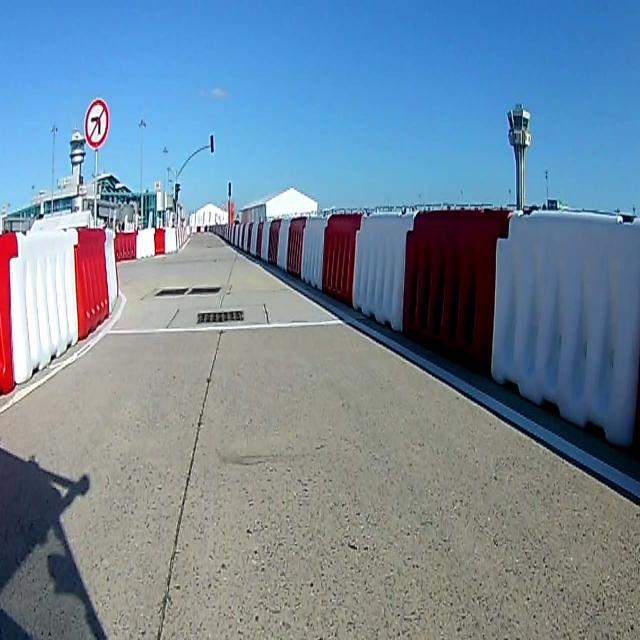soladonulmez: (82, 94, 110, 151)
